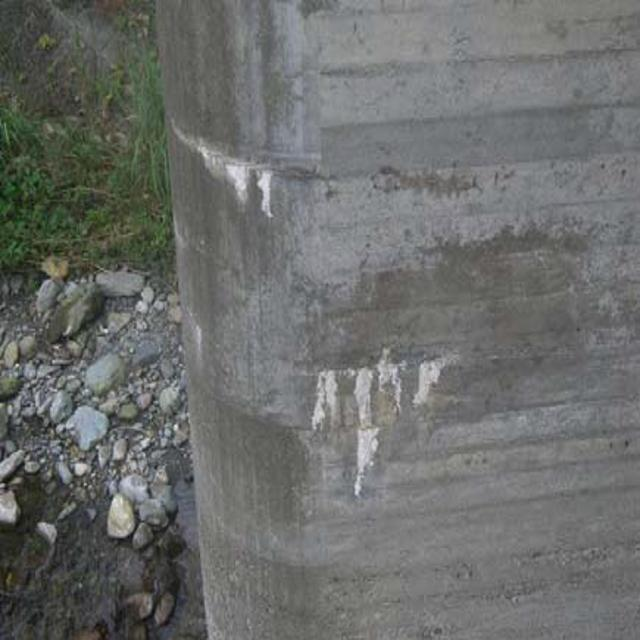freelime: (300, 348, 457, 493), (190, 129, 287, 220)
